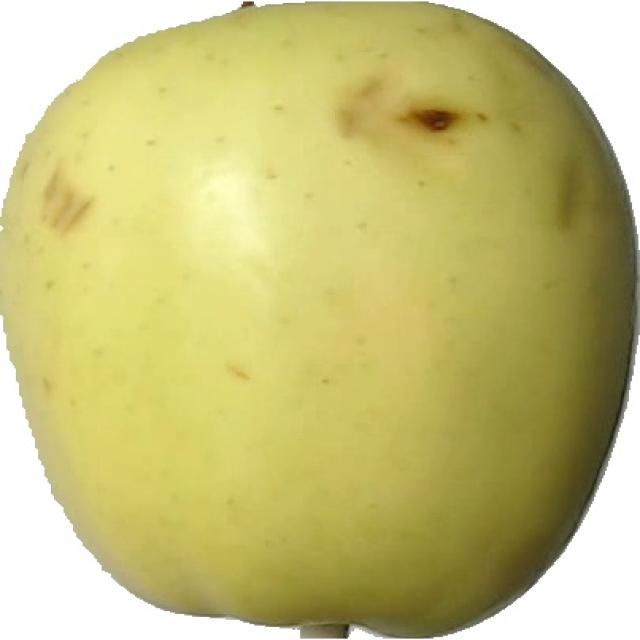Golden Elma: (5, 0, 640, 633)
